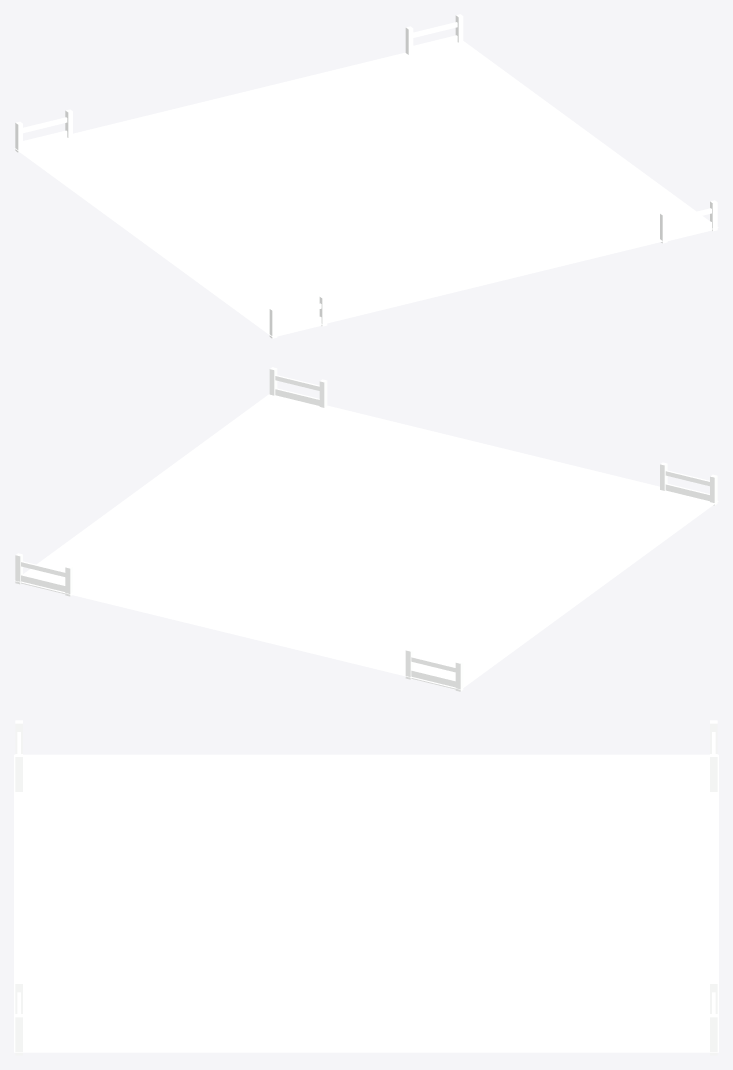
File: tile_for_home_2x2.006.glb
The picture shows the model from 3 angles, top to bottom: view 1: azimuth 30°, elevation 25°; view 2: azimuth 150°, elevation 25°; view 3: azimuth 270°, elevation 25°; orthographic projection. The views are drawn at different scales.
Parts seen in each view (by area): view 1: tile_for_home_2x2.006(Clone); view 2: tile_for_home_2x2.006(Clone); view 3: tile_for_home_2x2.006(Clone).
Boxes of the visible parts, x1=… form: tile_for_home_2x2.006(Clone): x1=14, y1=14, x2=718, y2=338; tile_for_home_2x2.006(Clone): x1=14, y1=367, x2=718, y2=691; tile_for_home_2x2.006(Clone): x1=14, y1=720, x2=718, y2=1055.
Size of the model in its own units: 16 by 0.959 by 16.
Materials: 1 (1 with a texture image).
